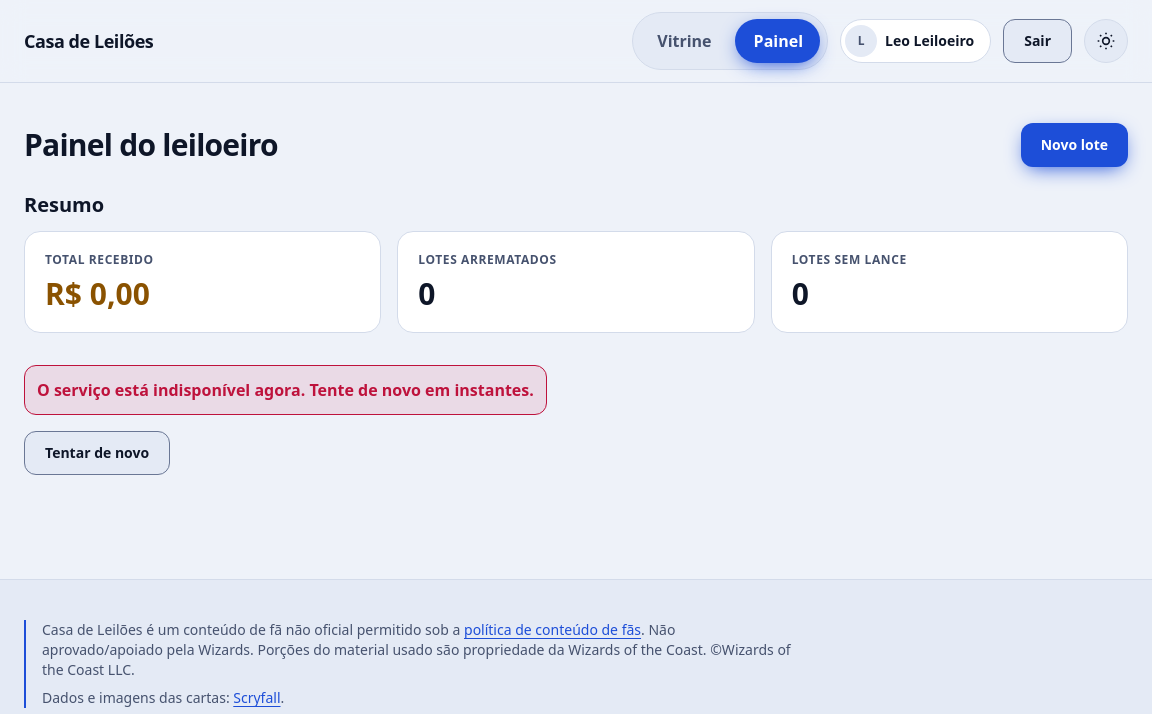
/painel › erro INDISPONIVEL mostra a mensagem e "Tentar de novo" refaz a consulta
Expected: the message reads "O serviço está indisponível agora. Tente de novo em instantes.", [37, 379, 534, 401]
What coordinates should you click on to do the following:
click the button "Tentar de novo"
I would click on:
 (97, 453)
Its box is [24, 431, 170, 475].
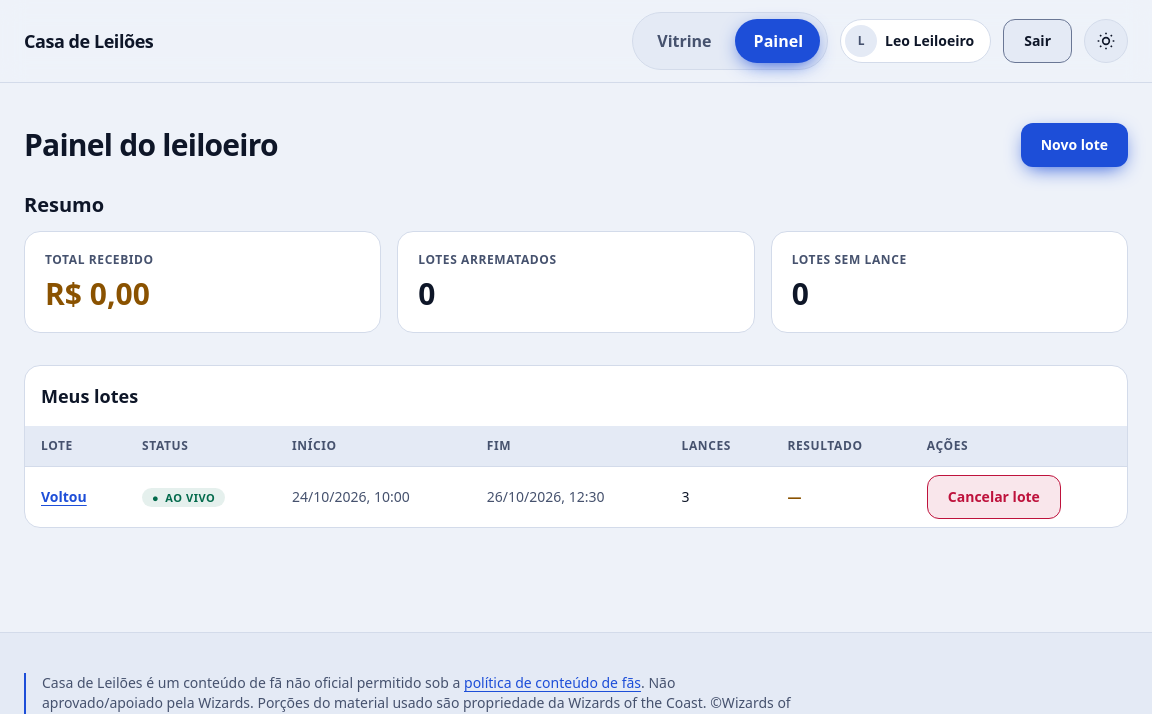
Expected: the link "Voltou" is shown, [41, 487, 87, 506]
